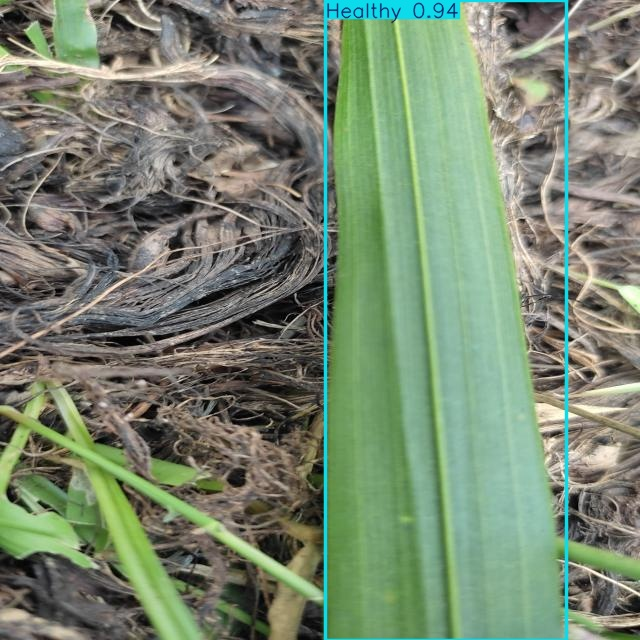Healthy: (325, 0, 567, 640)
